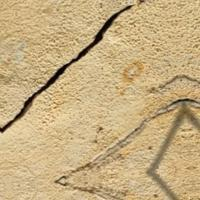crack: (3, 0, 124, 136)
